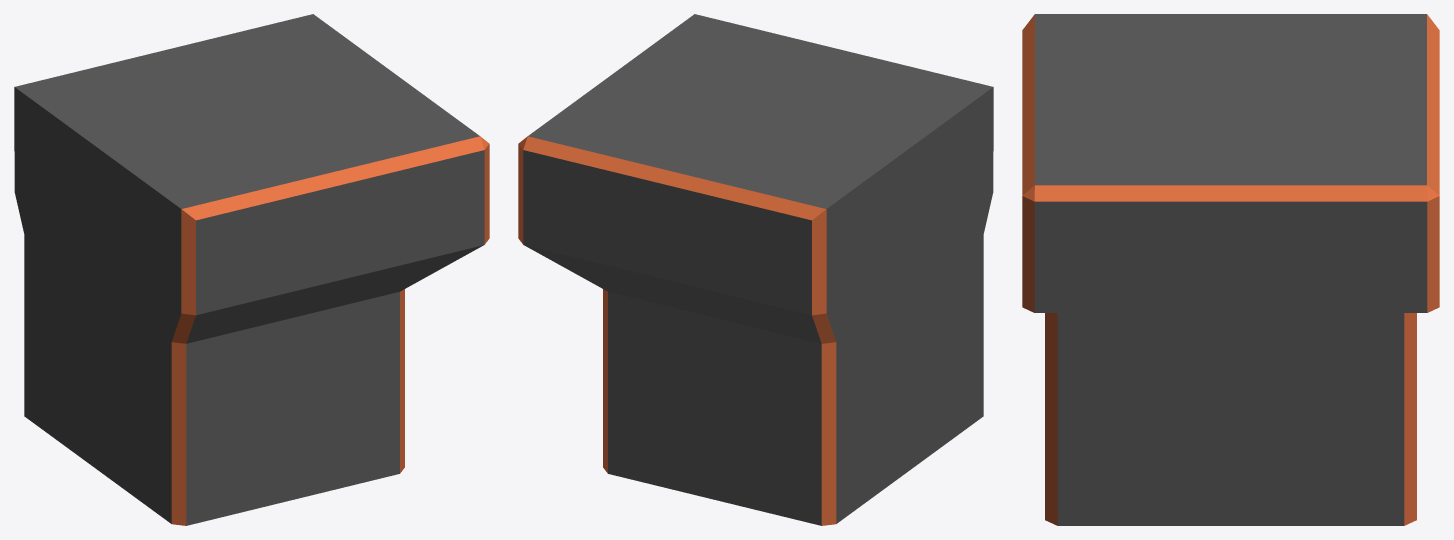
The model's file is generator.glb.
3 renders of one model, left to right at view 1: azimuth 30°, elevation 25°; view 2: azimuth 150°, elevation 25°; view 3: azimuth 270°, elevation 25°, orthographic. The views are drawn at different scales.
Visible parts, largest first — view 1: generator; view 2: generator; view 3: generator.
Boxes of the visible parts, left/top/right/bottom form: generator: left=14, top=14, right=489, bottom=525; generator: left=518, top=14, right=993, bottom=525; generator: left=1022, top=14, right=1439, bottom=525.
Size of the model in its own units: 100 by 100 by 100.
